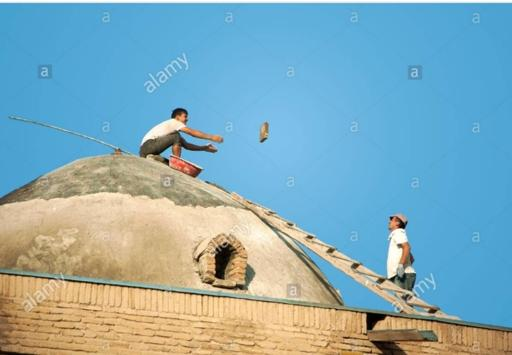unsafe person: (137, 104, 221, 160), (386, 205, 426, 297)
